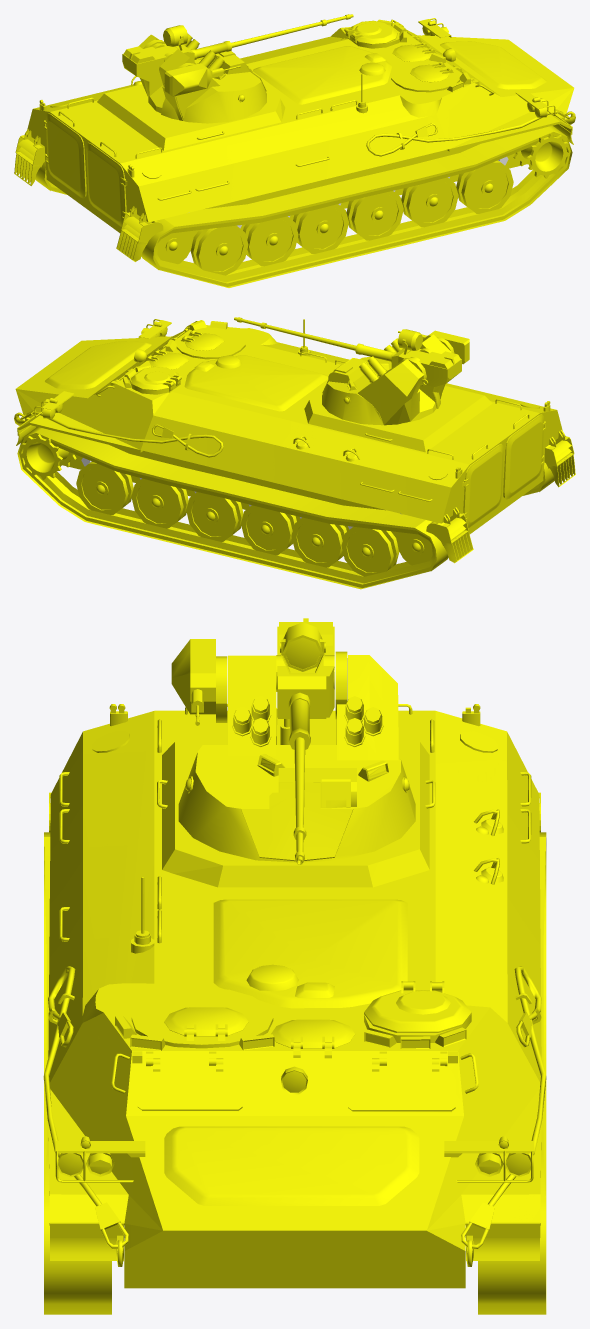
The picture shows the model from 3 angles, top to bottom: view 1: azimuth 30°, elevation 25°; view 2: azimuth 150°, elevation 25°; view 3: azimuth 270°, elevation 25°; orthographic projection. The views are drawn at different scales.
Parts seen in each view (by area): view 1: hull (×2), track, turret, mount, mud guard, hatch4, hatch5, wheel 13, wheel 3, wheel 7, wheel 5, wheel 11 (+12 smaller); view 2: hull (×2), track 2, turret, mud guard, hatch5, mount, hatch4, wheel 14, wheel 4, wheel 8, wheel 6, wheel 12 (+13 smaller); view 3: hull (×2), turret, tampa-vidro, mount, track 2, track, hatch2, cable, cable01, front_lights, front_lights2, hatch3 (+5 smaller).
Part boxes in pixels (box(x1,y1,x2,y2)): hull (×2): box(27, 19, 574, 240); track: box(141, 125, 572, 287); turret: box(139, 34, 266, 123); mount: box(122, 41, 231, 96); mud guard: box(14, 129, 163, 261); hatch4: box(44, 113, 86, 198); hatch5: box(86, 142, 127, 226); wheel 13: box(190, 225, 248, 275); wheel 3: box(456, 160, 513, 213); wheel 7: box(346, 191, 403, 240); wheel 5: box(401, 177, 458, 227); wheel 11: box(243, 216, 298, 266); hull (×2): box(15, 321, 562, 541); track 2: box(17, 427, 448, 589); turret: box(322, 334, 454, 425); mud guard: box(426, 430, 575, 563); hatch5: box(503, 414, 545, 499); mount: box(355, 330, 469, 386); hatch4: box(462, 444, 503, 528); wheel 14: box(341, 526, 399, 576); wheel 4: box(76, 461, 133, 514); wheel 8: box(186, 492, 243, 541); wheel 6: box(131, 478, 188, 528); wheel 12: box(291, 517, 346, 567); hull (×2): box(48, 704, 541, 1288); turret: box(178, 651, 415, 862); tampa-vidro: box(137, 1058, 455, 1111); mount: box(171, 618, 334, 749); track 2: box(478, 832, 546, 1314); track: box(44, 832, 111, 1314); hatch2: box(364, 981, 471, 1032); cable: box(43, 966, 128, 1266); cable01: box(461, 966, 546, 1266); front_lights: box(55, 1136, 145, 1182); front_lights2: box(444, 1136, 534, 1182); hatch3: box(164, 1007, 248, 1036).
Bounding box in the file's own units: 6.61 × 2.85 × 3.07.
